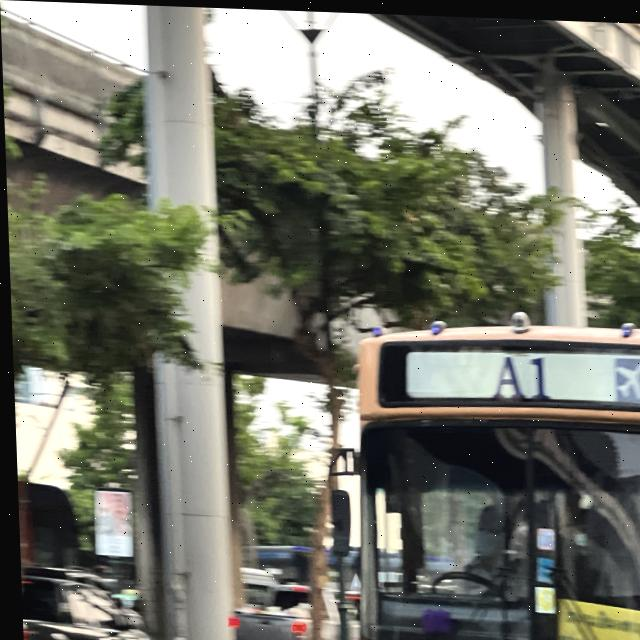BMTA-bus: (337, 297, 640, 640)
Bus-Line-Number: (468, 348, 565, 395)
Destination-Sign-Normal-Expressway: (552, 594, 640, 640)
